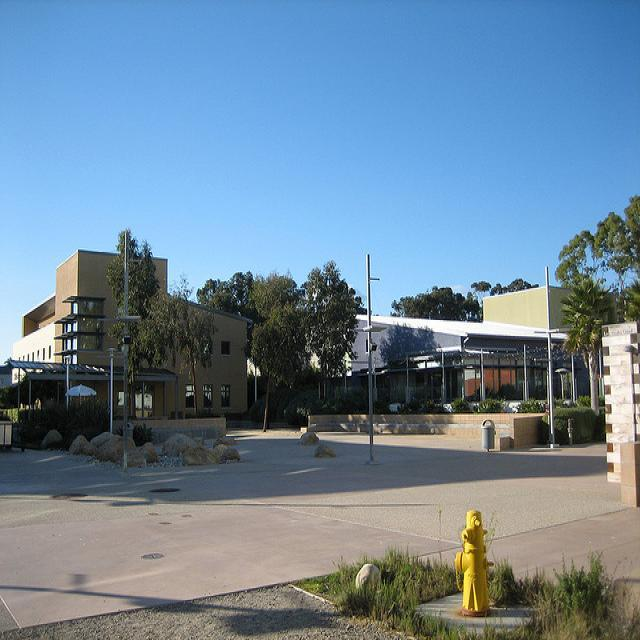fire_hydrant: (455, 508, 494, 615)
